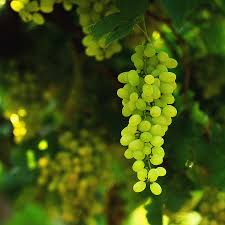grapes: (122, 28, 187, 201)
